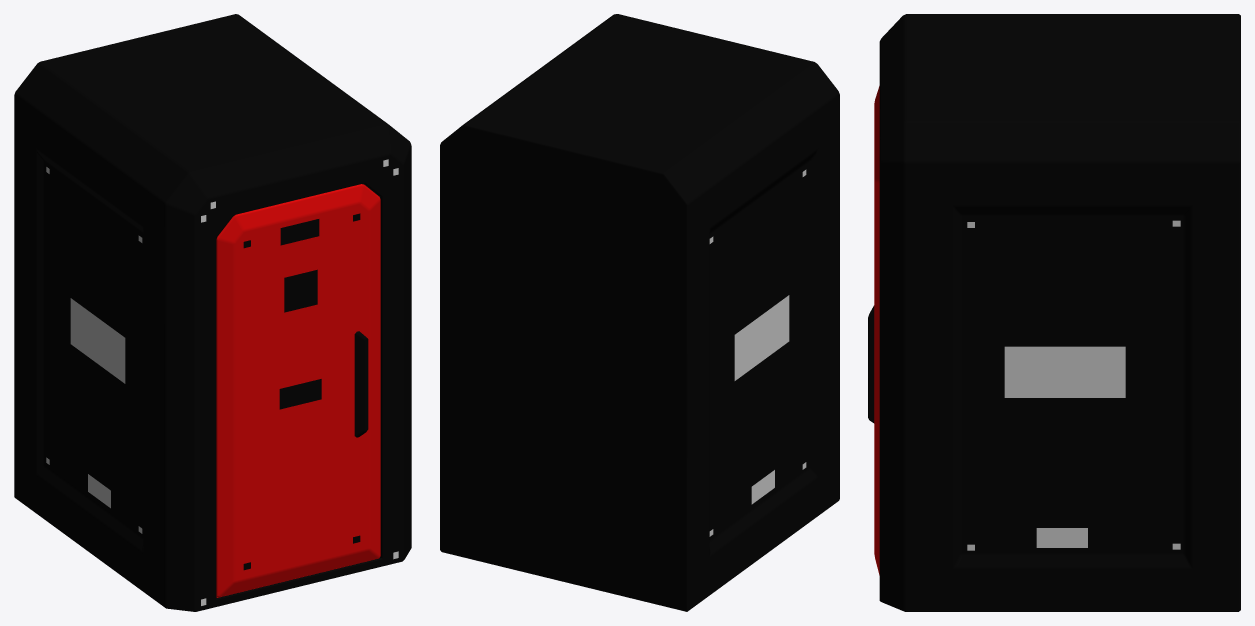
The model's file is shower_cabin.glb.
3 views of the same model, side by side, from view 1: azimuth 30°, elevation 25°; view 2: azimuth 150°, elevation 25°; view 3: azimuth 270°, elevation 25° (orthographic). The views are drawn at different scales.
Parts seen in each view (by area): view 1: cabin, shower_cabin_door, cabin_decals; view 2: cabin, cabin_decals; view 3: cabin, cabin_decals, shower_cabin_door.
Boxes of the visible parts, x1,y1,x2,y2 form: cabin: (14, 14, 411, 611); shower_cabin_door: (216, 184, 380, 597); cabin_decals: (46, 159, 398, 605); cabin: (440, 14, 839, 611); cabin_decals: (709, 169, 806, 536); cabin: (879, 14, 1240, 611); cabin_decals: (967, 220, 1180, 550); shower_cabin_door: (868, 86, 879, 575).
Bounding box in the file's own units: 1.5 × 2.5 × 1.77.
